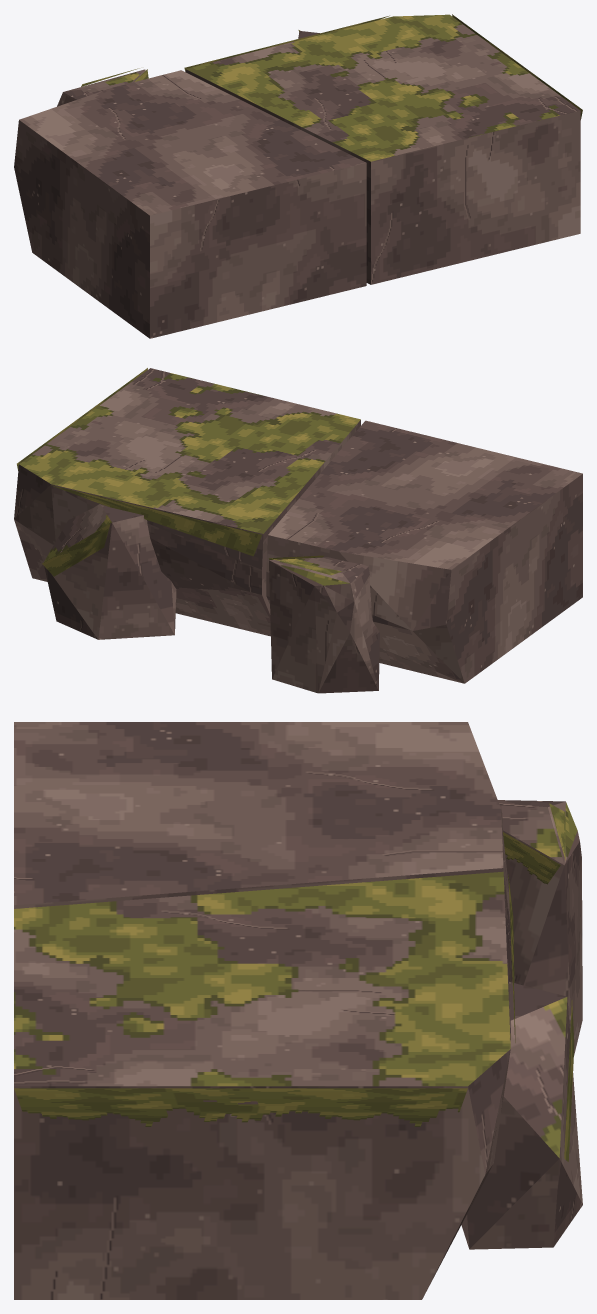
The model's file is SM_RK12_CliffLedge.fbx.
3 views of the same model, one above another, from view 1: azimuth 30°, elevation 25°; view 2: azimuth 150°, elevation 25°; view 3: azimuth 270°, elevation 25° (orthographic). The views are drawn at different scales.
Visible parts, largest first — view 1: RK12_Rock, RK12_RockTop, RK12_Moss; view 2: RK12_Rock, RK12_RockTop, RK12_Moss; view 3: RK12_Rock, RK12_RockTop, RK12_Moss.
Boxes of the visible parts, x1,y1,x2,y2 form: RK12_Rock: (14,31,580,338); RK12_RockTop: (81,14,580,161); RK12_Moss: (81,14,582,119); RK12_Rock: (14,420,582,693); RK12_RockTop: (19,368,361,585); RK12_Moss: (17,368,341,576); RK12_Rock: (14,722,582,1299); RK12_RockTop: (14,802,577,1157); RK12_Moss: (14,803,574,1161).
Bounding box in the file's own units: 3.02 × 0.8218 × 1.98.
